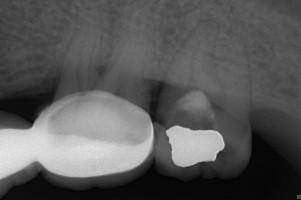Endo-Periodontal Lesion: (95, 65, 107, 75)
